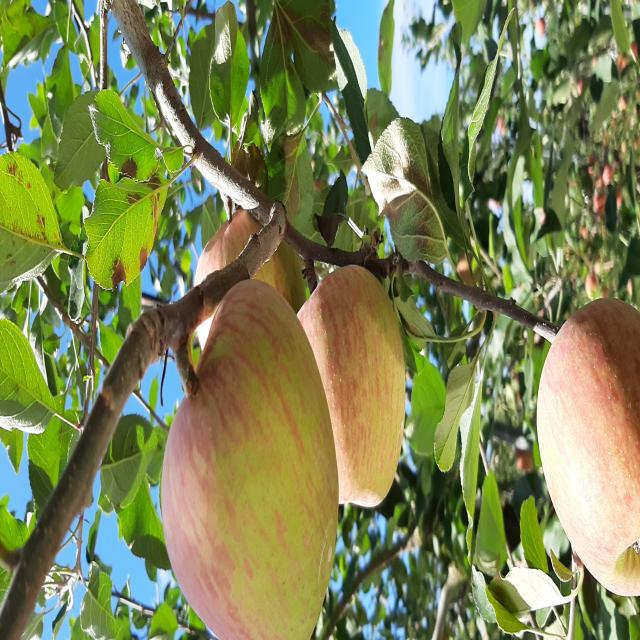fresh: (155, 271, 351, 640)
